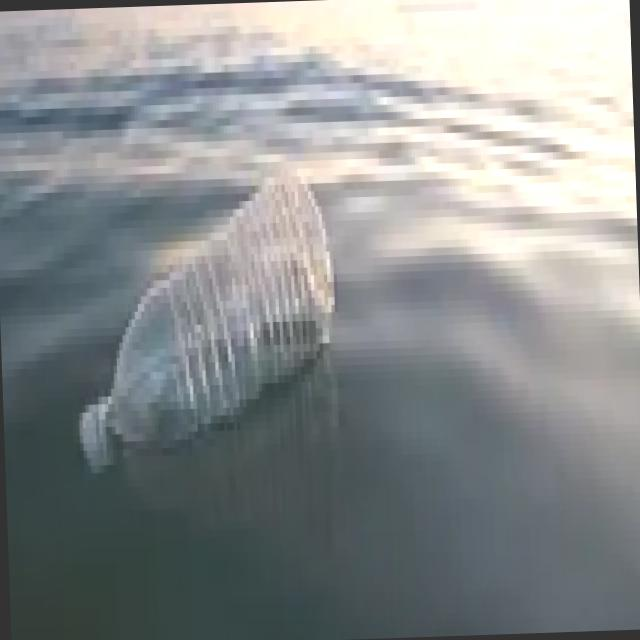Trash: (68, 177, 356, 489)
